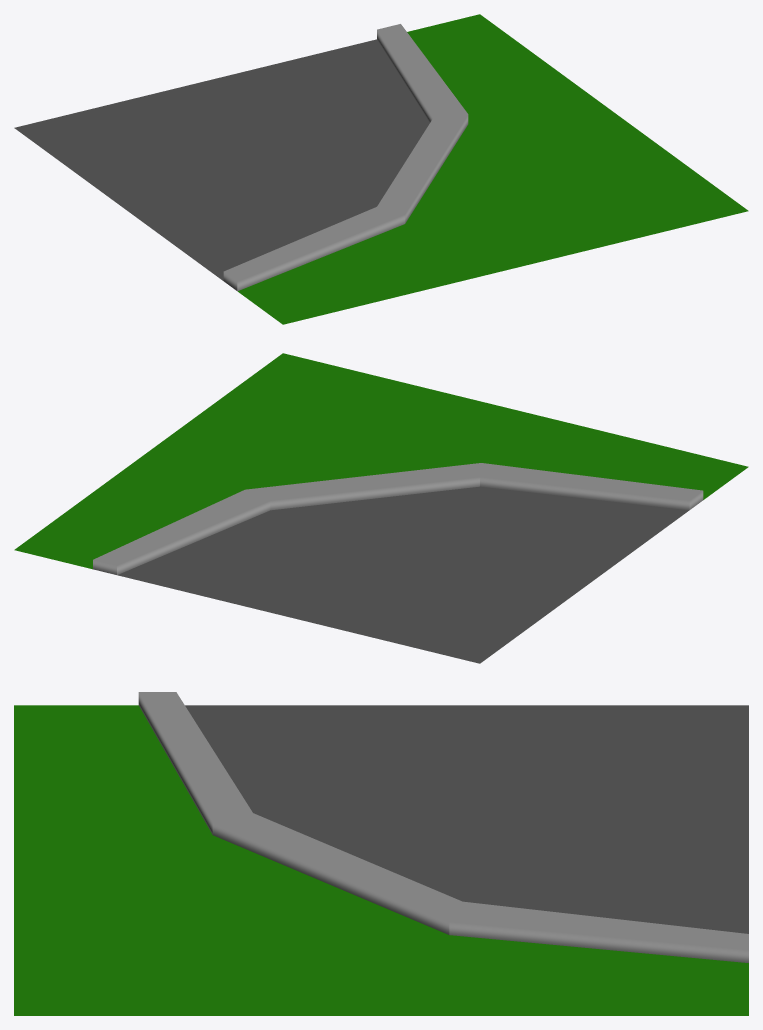
File: ground_pathCorner.fbx
The picture shows the model from 3 angles, top to bottom: view 1: azimuth 30°, elevation 25°; view 2: azimuth 150°, elevation 25°; view 3: azimuth 270°, elevation 25°; orthographic projection. The views are drawn at different scales.
Visible parts, largest first — view 1: ground_pathCorner; view 2: ground_pathCorner; view 3: ground_pathCorner.
Part boxes in pixels (x1,y1,x2,y2): ground_pathCorner: (14,14,748,324); ground_pathCorner: (14,353,748,663); ground_pathCorner: (14,692,748,1015).
Bounding box in the file's own units: 100 × 1.99 × 100.
